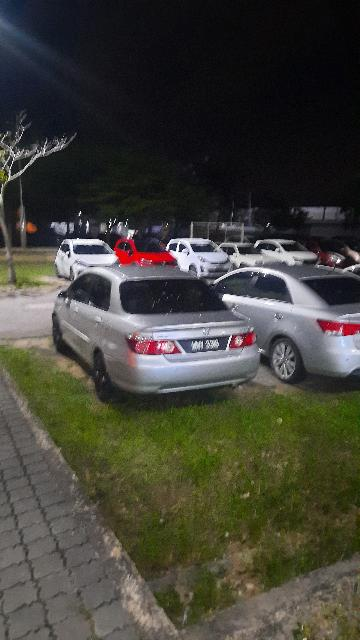License_Plate: (175, 334, 232, 354)
car: (52, 265, 261, 403), (211, 264, 360, 384), (167, 239, 236, 280), (56, 239, 121, 281), (116, 237, 178, 279), (220, 243, 285, 274)
